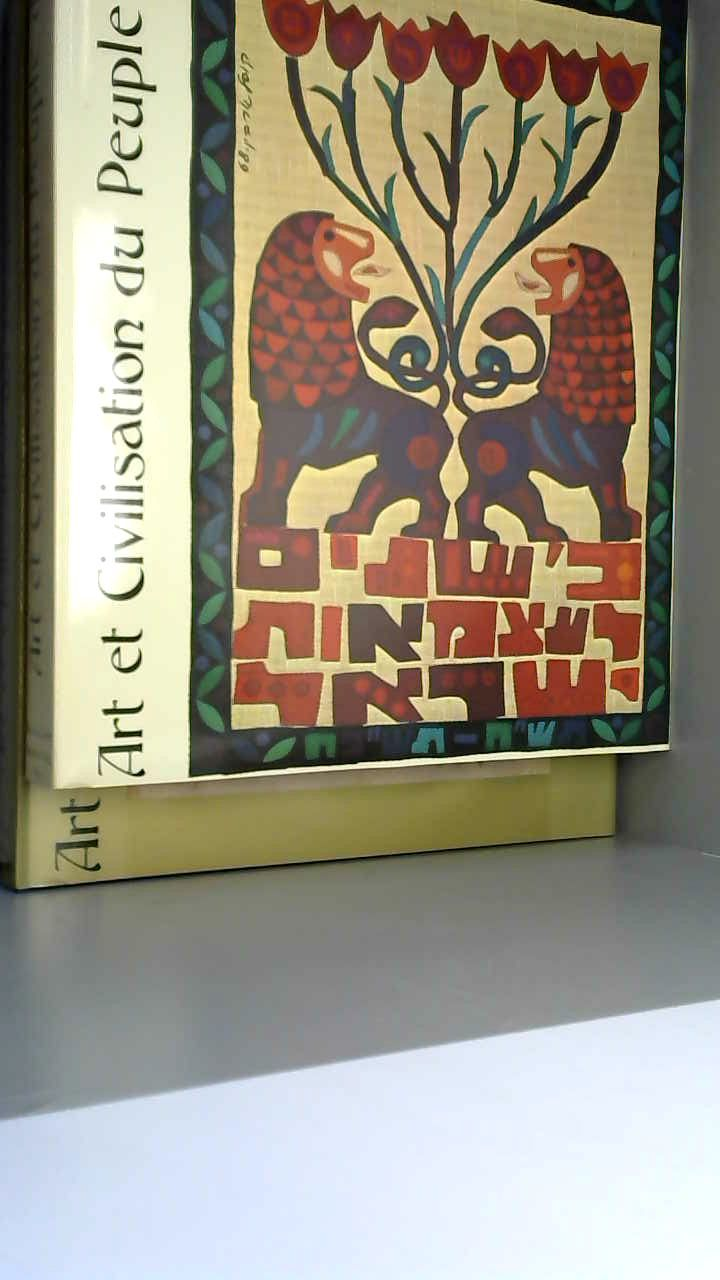book: (0, 0, 705, 903)
